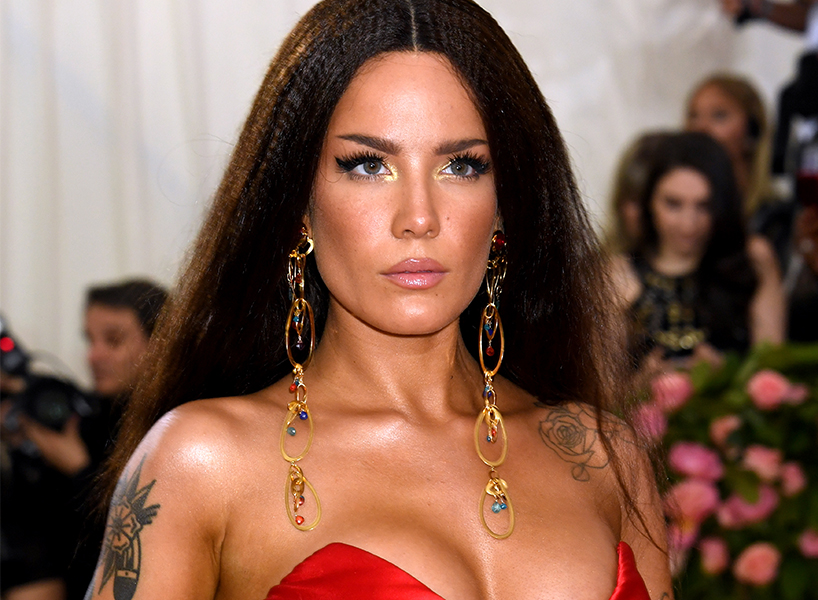bare: (311, 189, 500, 334)
